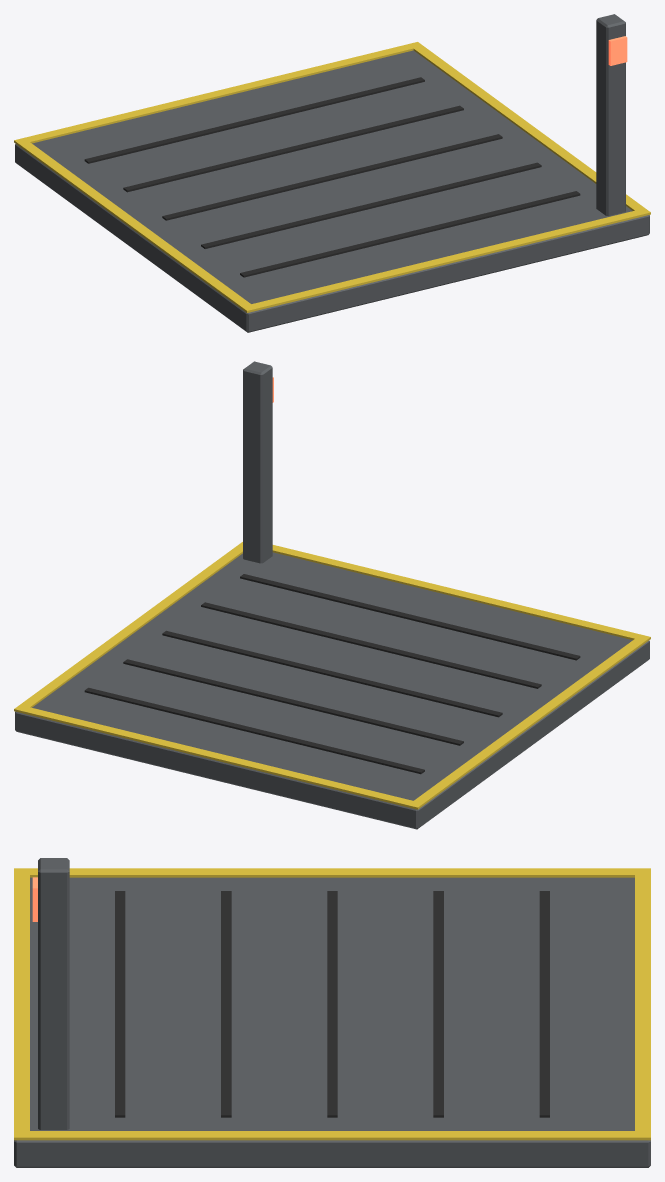
File: cargo_lift.glb
The picture shows the model from 3 angles, top to bottom: view 1: azimuth 30°, elevation 25°; view 2: azimuth 150°, elevation 25°; view 3: azimuth 270°, elevation 25°; orthographic projection. The views are drawn at different scales.
Visible parts, largest first — view 1: cargo_lift; view 2: cargo_lift; view 3: cargo_lift.
Boxes of the visible parts, x1,y1,x2,y2 form: cargo_lift: [14, 14, 650, 332]; cargo_lift: [14, 361, 650, 829]; cargo_lift: [14, 858, 650, 1167].
Size of the model in its own units: 2.4 by 1.2 by 2.4.
